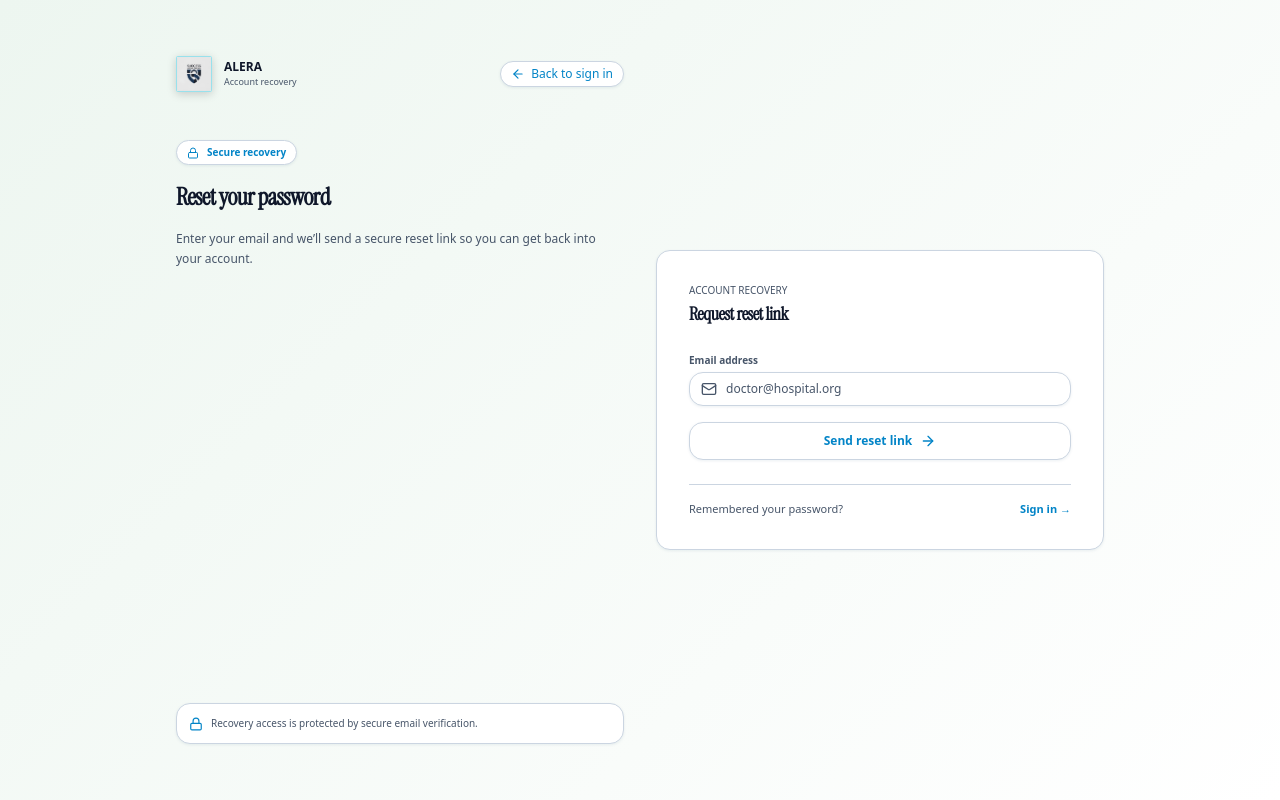
Test: Recovery flows › submits the forgot-password request
In the field with placeholder "doctor@hospital.org": (880, 389) [689,372,1071,406], type "patient@example.com"
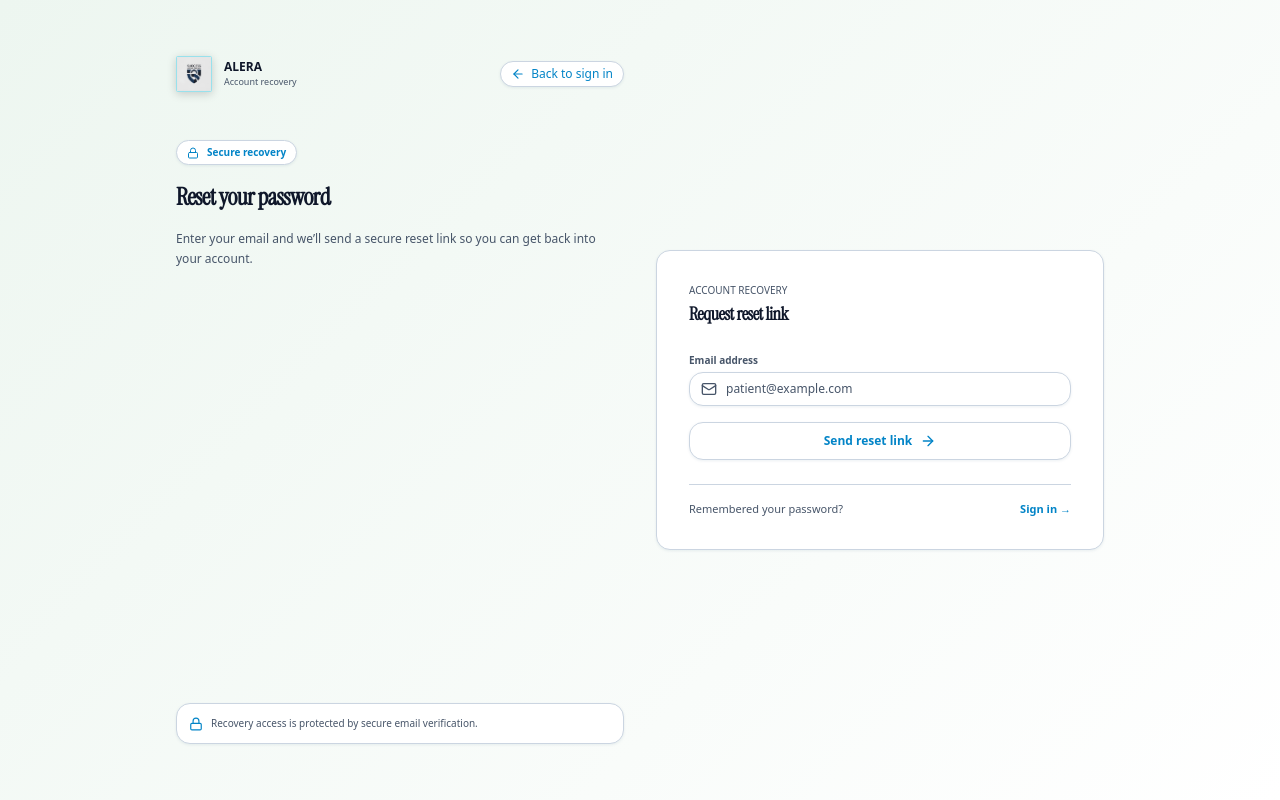
Click the button "Send reset link": click(880, 441) [689,422,1071,460]
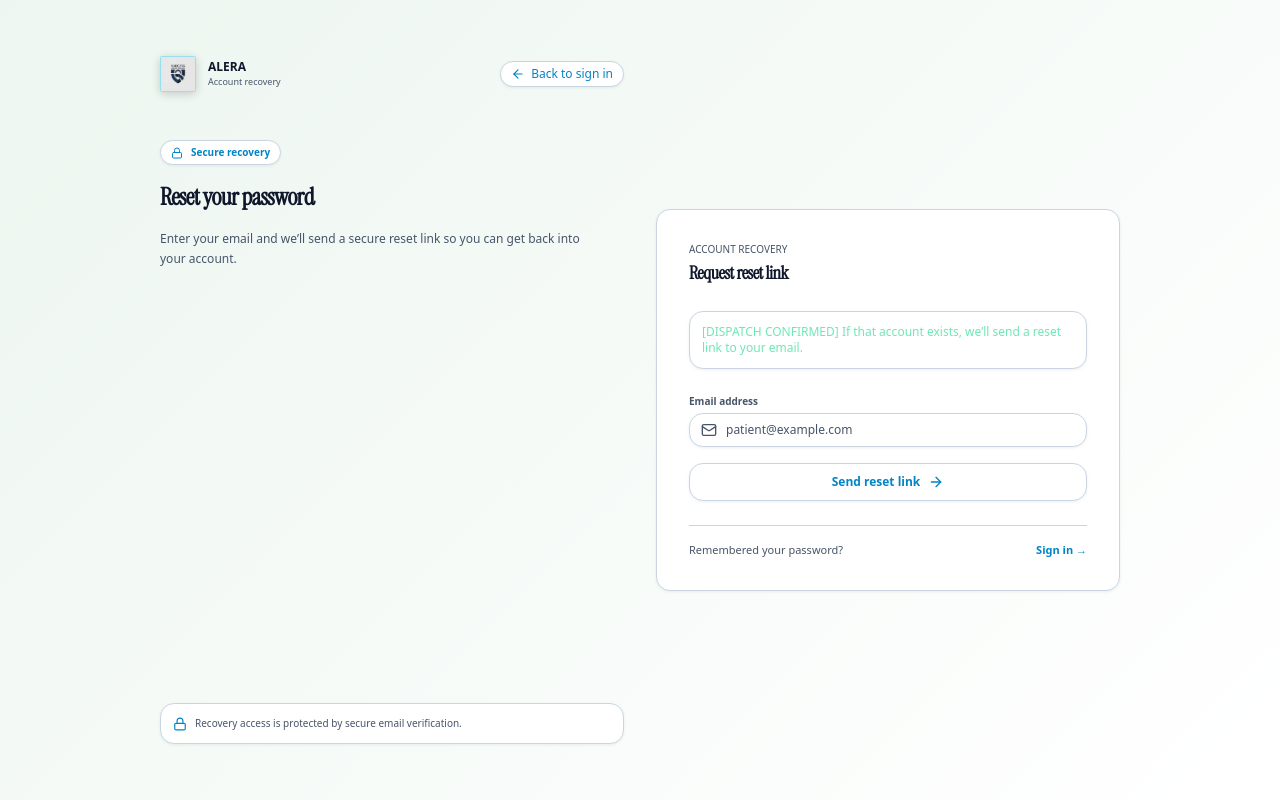
Expected: the text "If that account exists" is shown, [702,323,1061,356]
